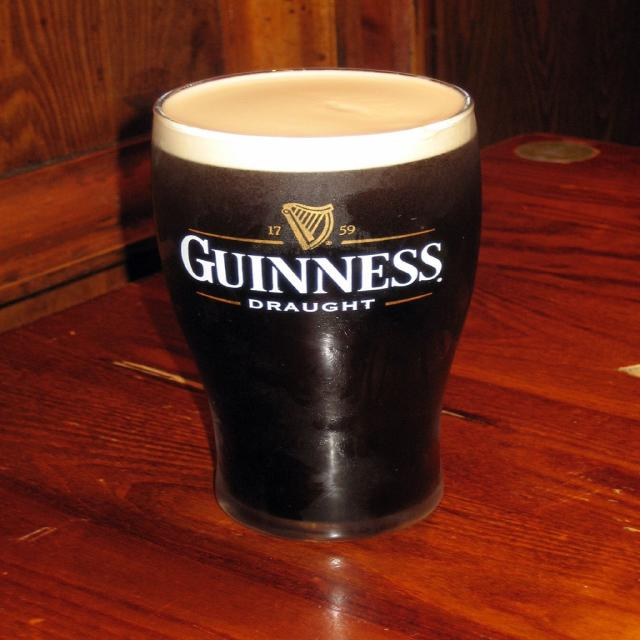guiness: (175, 202, 446, 299)
